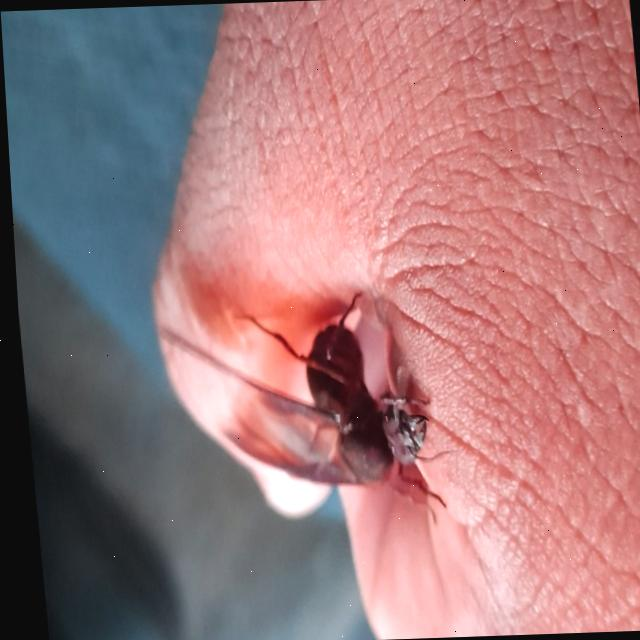Alive-Female-Alate: (150, 287, 456, 536)
